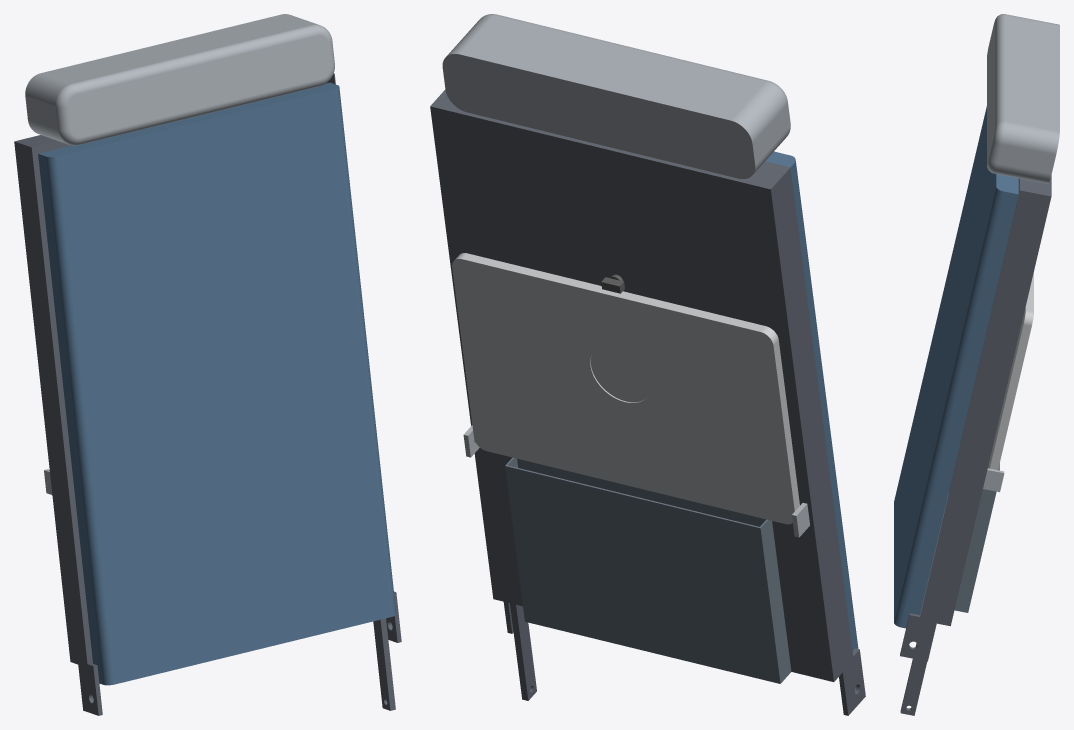
The model's file is step_05.glb.
3 views of the same model, side by side, from view 1: azimuth 30°, elevation 25°; view 2: azimuth 150°, elevation 25°; view 3: azimuth 270°, elevation 25° (orthographic). The views are drawn at different scales.
Visible parts, largest first — view 1: part__back cushion cover, part__head rest, part__back shell; view 2: part__back shell, part__tray table, part__literature pocket, part__head rest, part__back cushion cover; view 3: part__back cushion cover, part__back shell, part__head rest, part__tray table, part__literature pocket, part__tray hinge arm, right.
Boxes of the visible parts, x1,y1,x2,y2 form: part__back cushion cover: (38,82,396,685); part__head rest: (25,14,334,145); part__back shell: (14,73,401,715); part__back shell: (430,89,865,715); part__tray table: (452,253,799,524); part__literature pocket: (505,457,791,683); part__head rest: (442,14,790,178); part__back cushion cover: (765,151,858,650); part__back cushion cover: (894,106,1018,628); part__back shell: (900,175,1051,715); part__head rest: (987,14,1059,183); part__tray table: (988,272,1033,469); part__literature pocket: (954,463,999,612); part__tray hinge arm, right: (983,468,1004,492).
Bounding box in the file's own units: 440 × 903 × 233.
